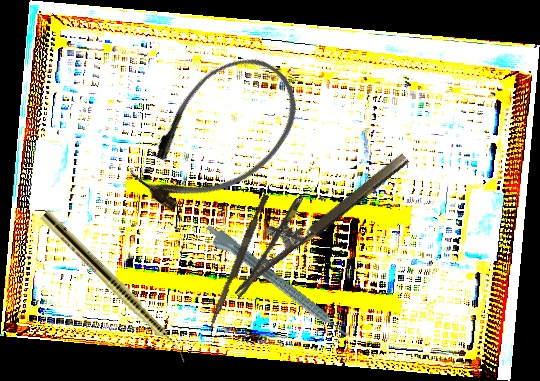Cannula: (113, 36, 321, 235)
Handpiece: (38, 209, 193, 365), (199, 221, 352, 347)
Needle Holder: (212, 129, 411, 299)
Pusher: (207, 192, 270, 332)
